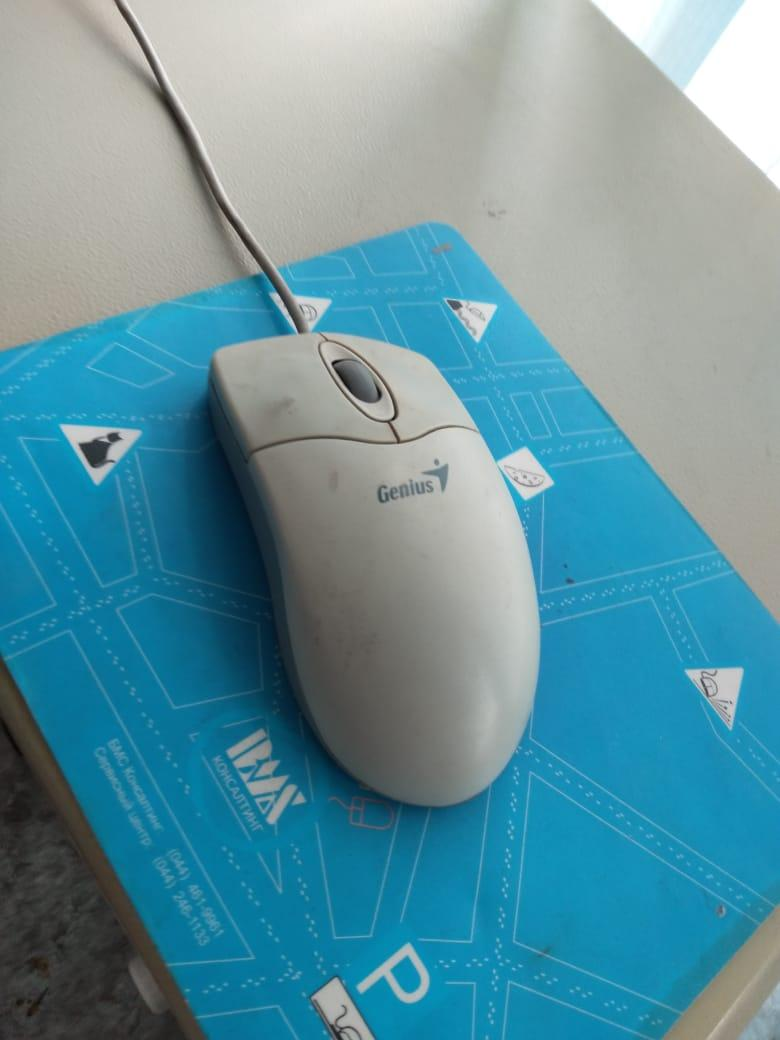mouse: (179, 312, 582, 834)
